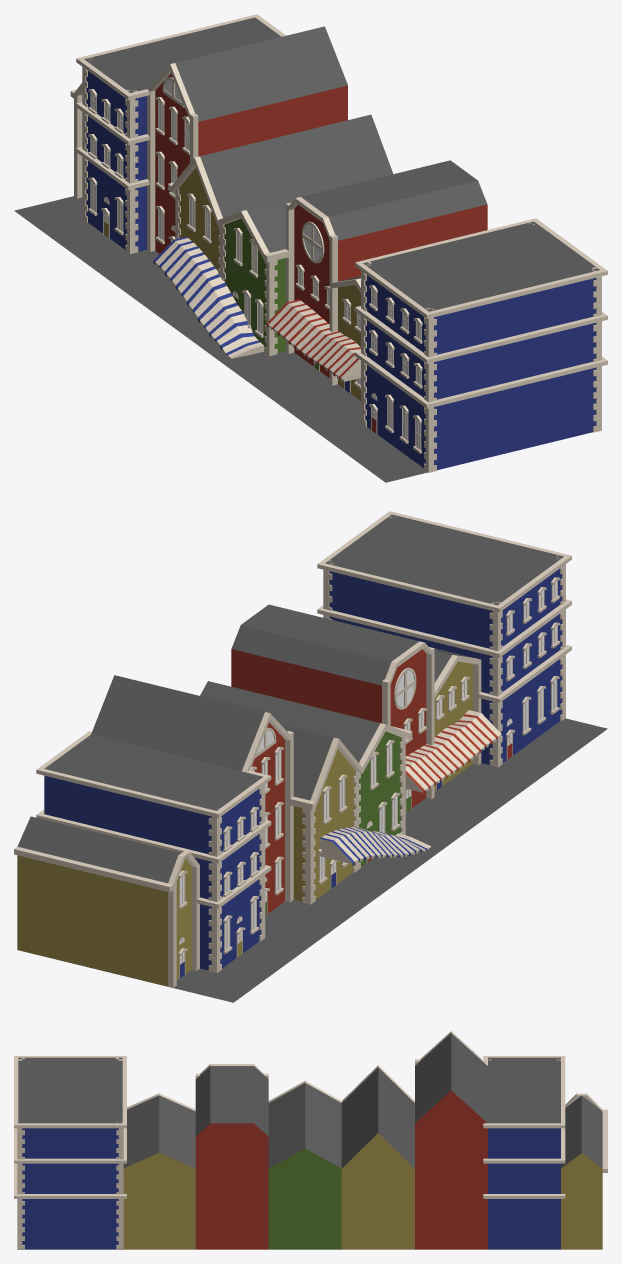
The model's file is 3x1_Buildings2.col.glb.
3 renders of one model, top to bottom at view 1: azimuth 30°, elevation 25°; view 2: azimuth 150°, elevation 25°; view 3: azimuth 270°, elevation 25°, orthographic. The views are drawn at different scales.
Parts seen in each view (by area): view 1: 3x1_Buildings2.col; view 2: 3x1_Buildings2.col; view 3: 3x1_Buildings2.col.
Part boxes in pixels (box(x1,y1,x2,y2)): 3x1_Buildings2.col: box(14, 14, 607, 482); 3x1_Buildings2.col: box(14, 511, 607, 1002); 3x1_Buildings2.col: box(14, 1031, 607, 1249).
Size of the model in its own units: 20.45 by 18.07 by 61.
